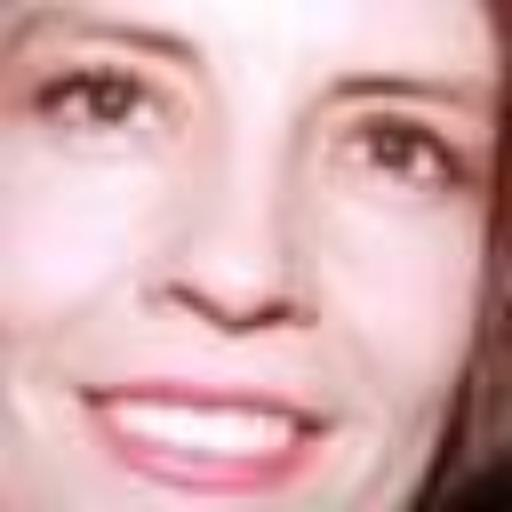left_eye: (324, 100, 474, 190)
left_lip_corner: (294, 392, 348, 456)
right_eye: (37, 55, 177, 140)
right_lip_corner: (76, 365, 128, 431)
